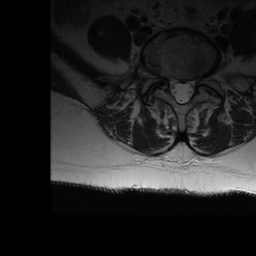CCS_normal: (178, 73, 186, 108)
LFS_severe_stenosis: (195, 69, 204, 91)
LLS_normal: (186, 74, 194, 104)
RFS_severe_stenosis: (161, 65, 169, 88)
RLS_normal: (170, 72, 178, 103)
